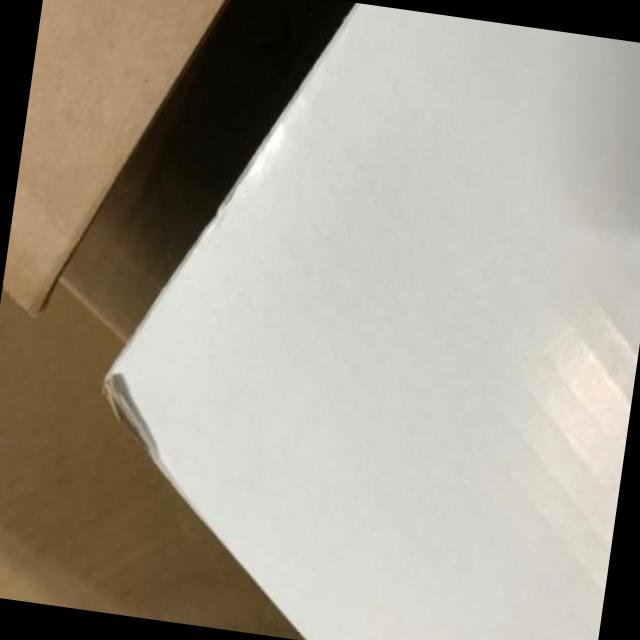cardboard paper: (0, 0, 355, 640), (2, 0, 222, 312)
